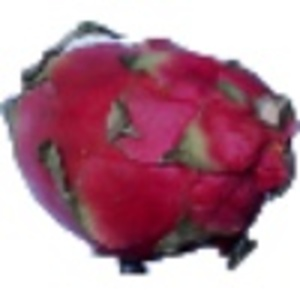pitaia: (1, 20, 300, 277)
